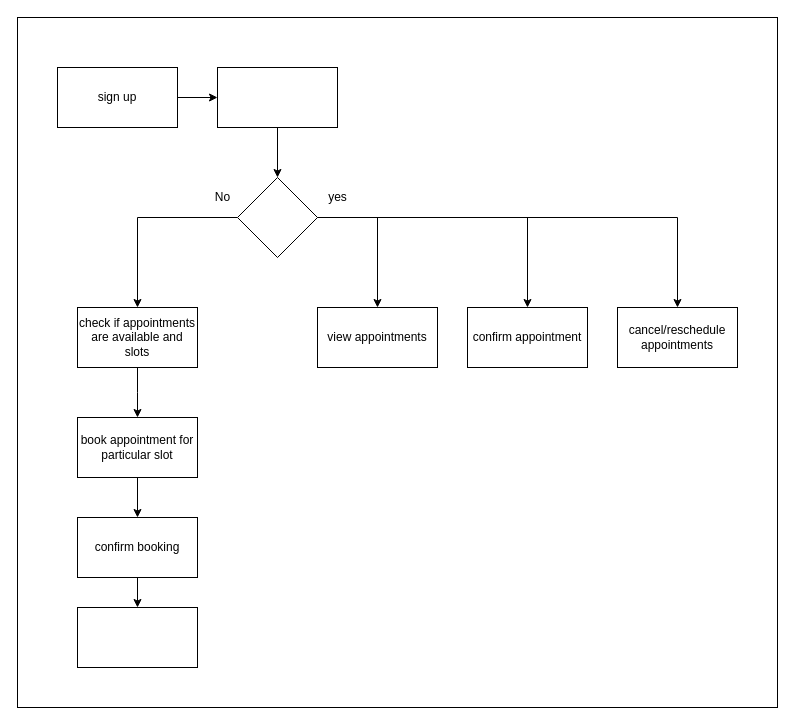
Some shapes in this 795 by 725 pixel diagram are drawn without their labels. Here are the shapes that lost their labels. From the top down, the centre of each, then its label:
(277,97): login
(277,217): doctor (user_type)
(137,637): pay
